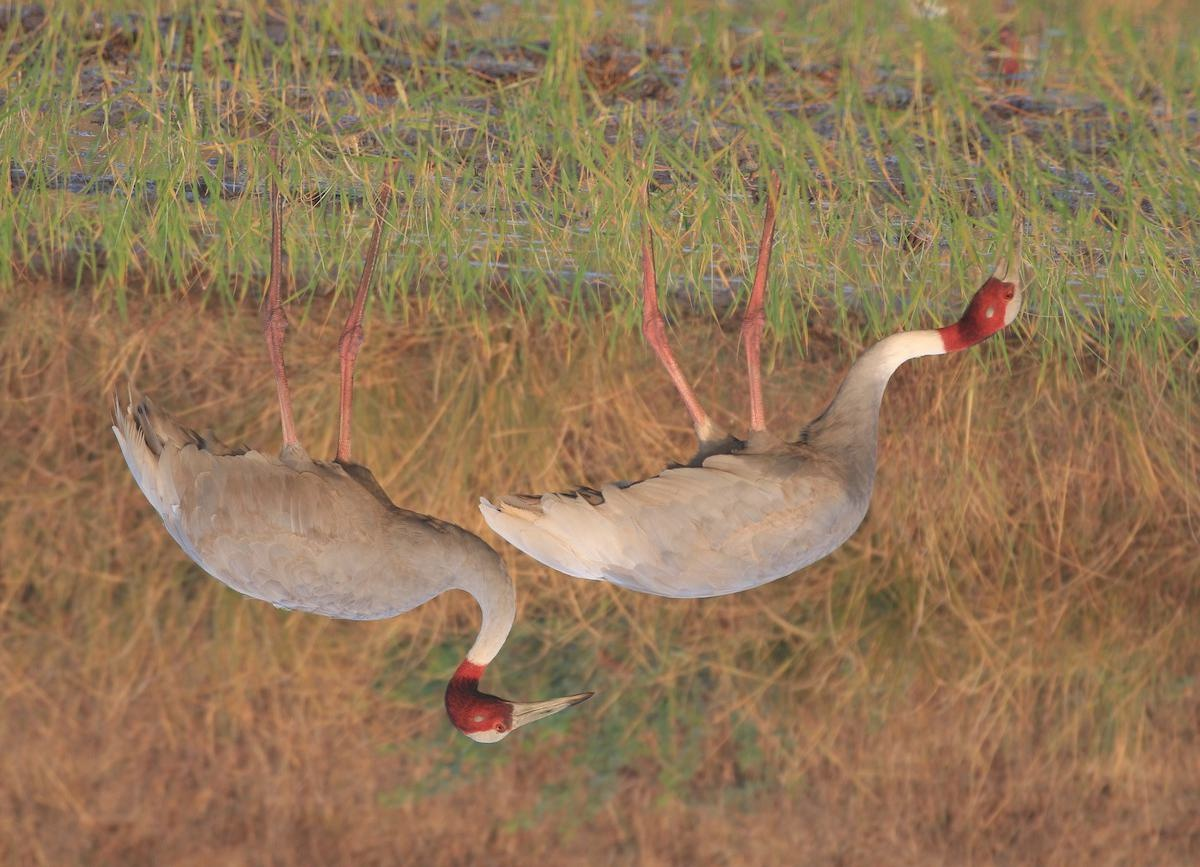crane: (109, 142, 598, 777), (473, 186, 1070, 596)
